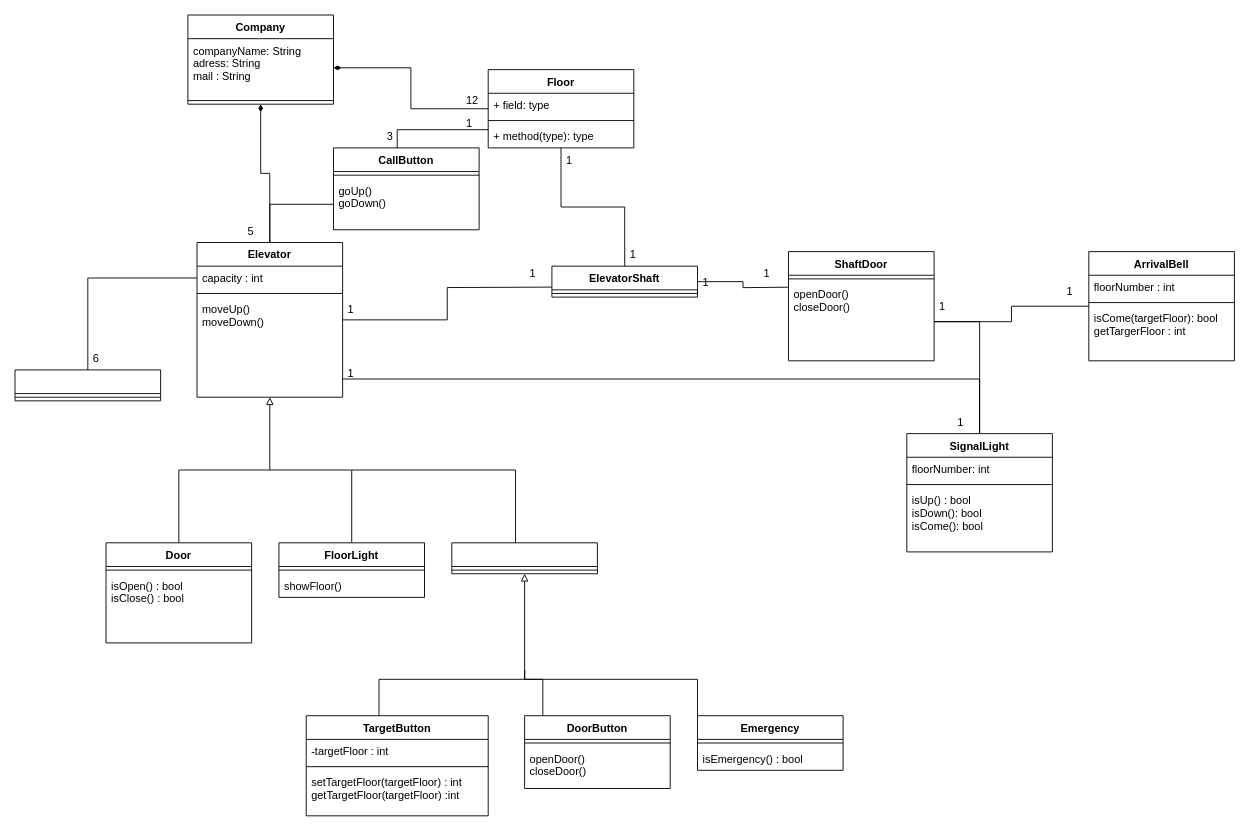
Some shapes in this 1249 by 831 pixel diagram are drawn without their labels. The shapes that lost their labels are listed below. From the top down, each one's centre as x and y in pixels, then its label:
(x=87, y=385): User
(x=524, y=558): ControlPanel
